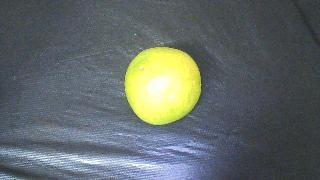LOCAL: (124, 47, 201, 125)
